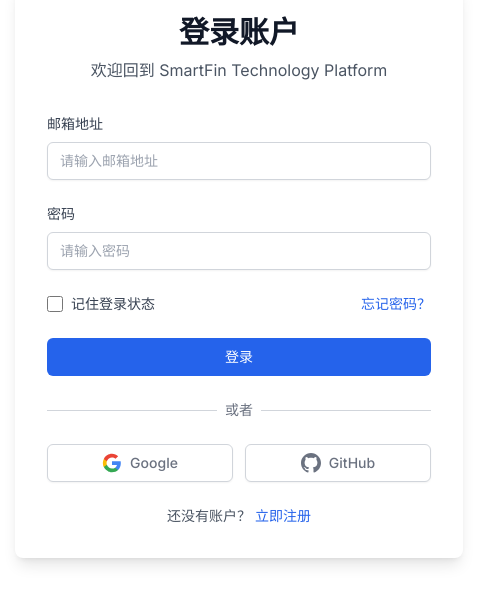
it: LoginForm Component › should show validation error for short password
The width and height of the screenshot is (479, 608).
Step 1. Type "test@example.com" into the field labelled "邮箱地址" → (239, 161), box [47,142,431,180]
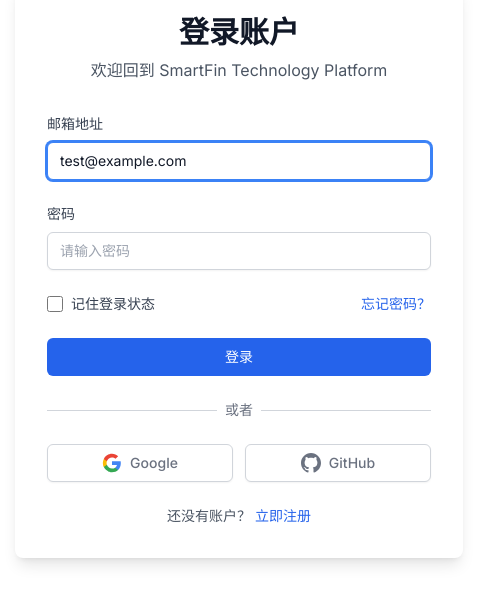
Step 2. Type "12345" into the password field labelled "密码" → (239, 251), box [47,232,431,270]
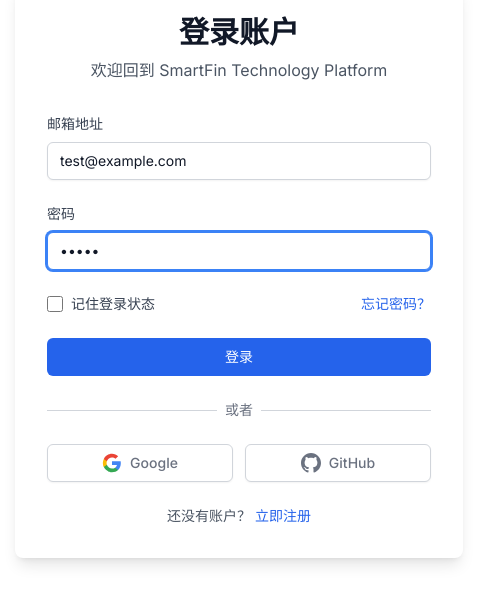
Step 3. Click the button "登录" → (239, 357), box [47,338,431,376]
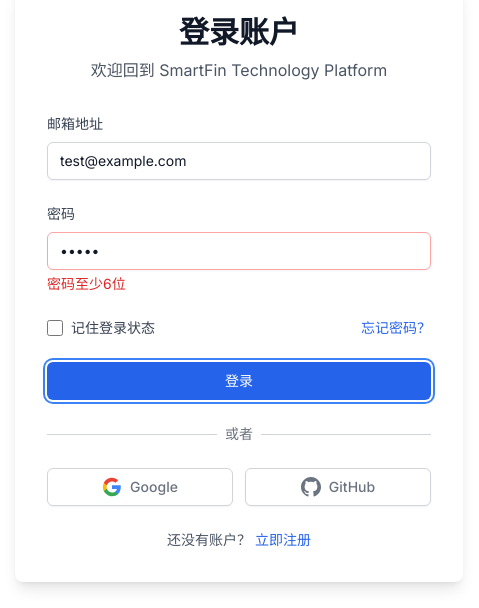
Result: the text "密码至少6位" is shown at [47,275,126,292]
